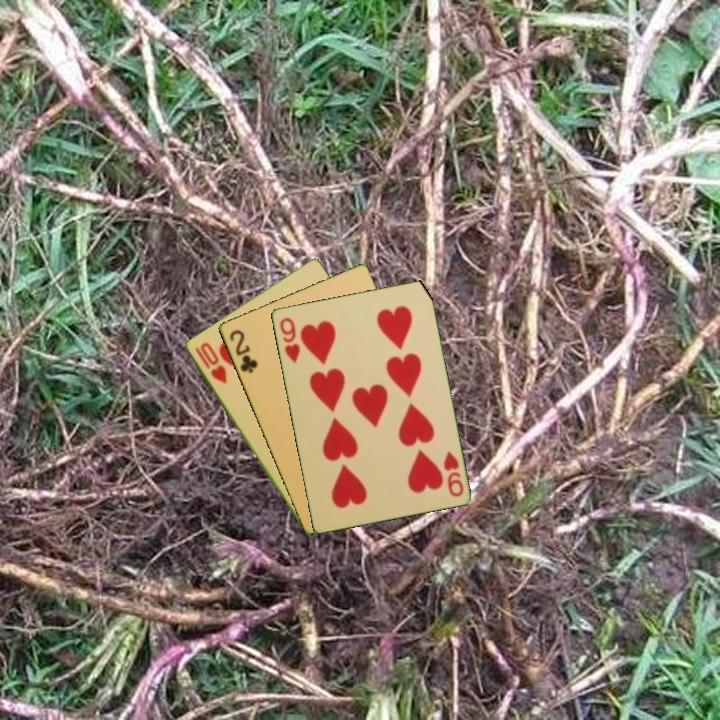10h: (191, 339, 230, 387)
2c: (226, 326, 260, 376)
9h: (276, 314, 303, 366), (440, 447, 466, 499)
